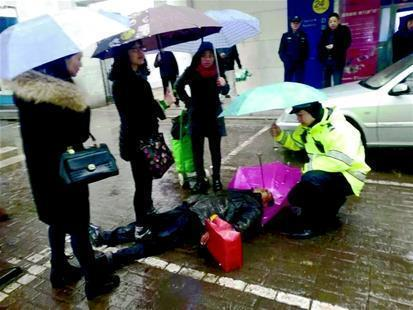Fall-Detected: (82, 173, 283, 273)
